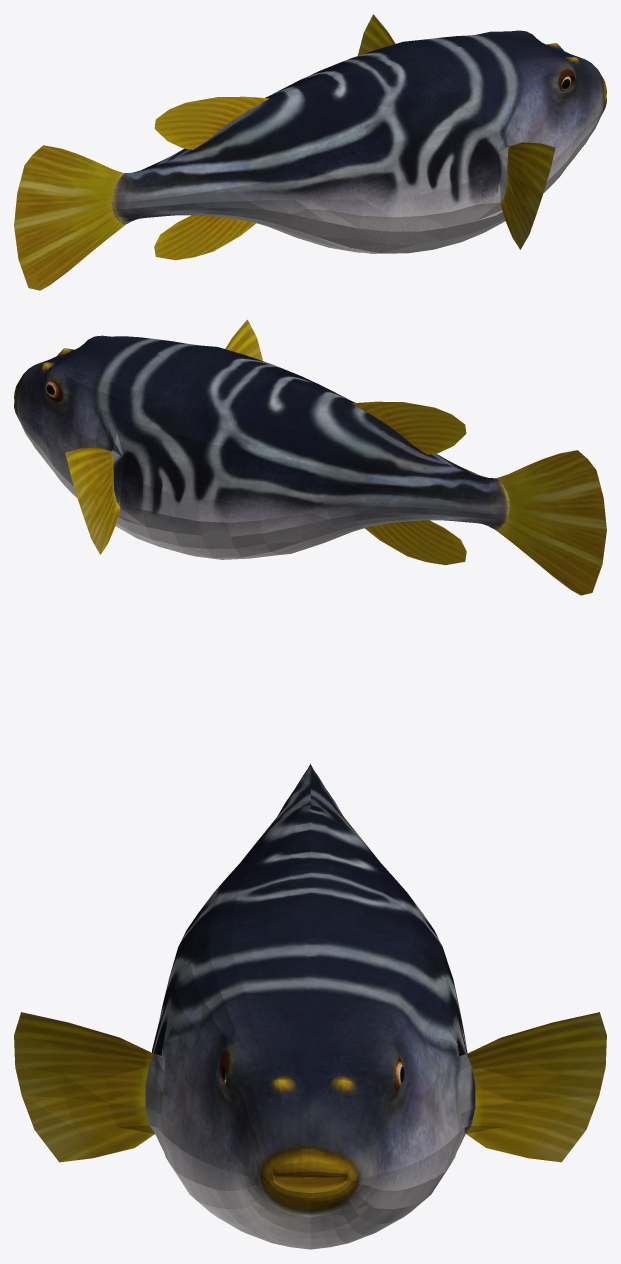
The model's file is pufferfish.glb.
3 views of the same model, one above another, from view 1: azimuth 30°, elevation 25°; view 2: azimuth 150°, elevation 25°; view 3: azimuth 270°, elevation 25° (orthographic). The views are drawn at different scales.
Visible parts, largest first — view 1: pufferfish; view 2: pufferfish; view 3: pufferfish.
Part boxes in pixels (x1,y1,x2,y2): pufferfish: (14, 14, 606, 290); pufferfish: (14, 319, 606, 595); pufferfish: (14, 763, 606, 1249).
Size of the model in its own units: 1 by 0.3103 by 0.5497.
Materials: 1 (1 with a texture image).
